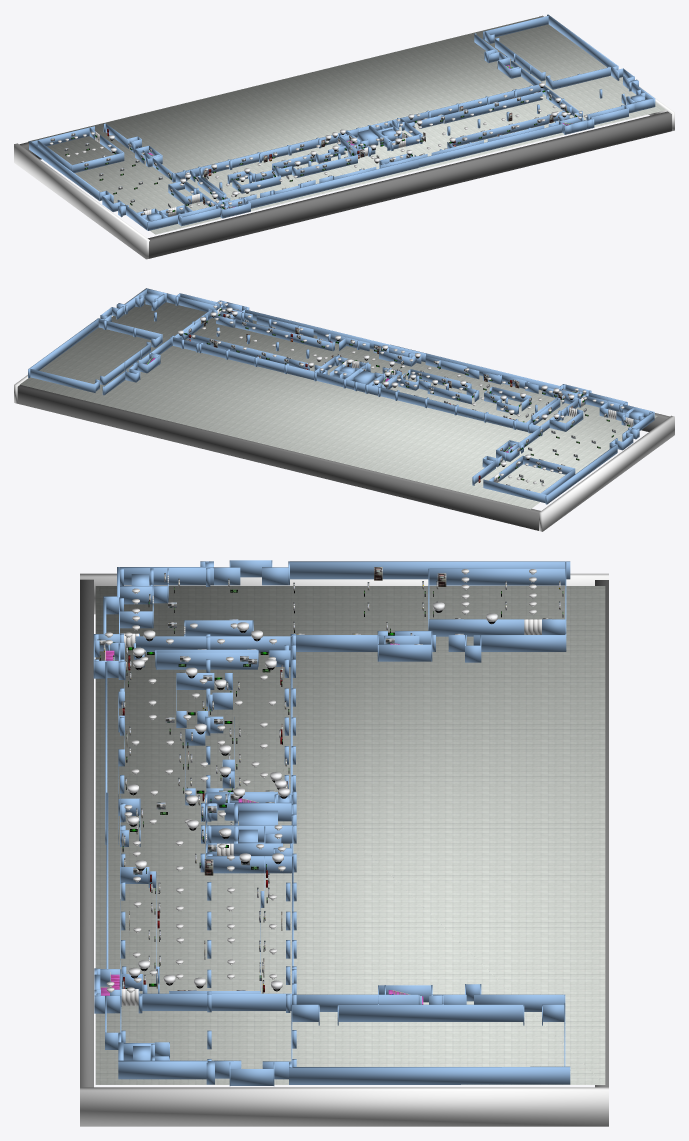
File: L40_2f_mini.gltf
3 views of the same model, one above another, from view 1: azimuth 30°, elevation 25°; view 2: azimuth 150°, elevation 25°; view 3: azimuth 270°, elevation 25° (orthographic). The views are drawn at different scales.
Parts seen in each view (by area): view 1: L40_dimian_42f, waiguan_42f_2, waiguan_42f, qiang_42_47, qiang_42_244, qiang_42_131, qiang_42_270, qiang_42_256, qiang_42_257, qiang_42_72, qiang_42_281, qiang_42_282 (+6 smaller); view 2: L40_dimian_42f, waiguan_42f_3, waiguan_42f, qiang_42_131, qiang_42_270, qiang_42_257, qiang_42_244, qiang_42_72, qiang_42_256, qiang_42_281, qiang_42_47, qiang_42_282 (+8 smaller); view 3: L40_dimian_42f, waiguan_42f_1, waiguan_42f_2, qiang_42_281, qiang_42_72, qiang_42_184, qiang_42_275, waiguan_42f, qiang_42_135, waiguan_42f_3, qiang_42_125, qiang_42_308 (+11 smaller).
Part boxes in pixels (x1,y1,x2,y2): L40_dimian_42f: (28, 17, 665, 234); waiguan_42f_2: (148, 111, 671, 258); waiguan_42f: (14, 143, 149, 259); qiang_42_47: (246, 159, 418, 208); qiang_42_244: (381, 124, 562, 168); qiang_42_131: (173, 135, 336, 182); qiang_42_270: (400, 84, 541, 126); qiang_42_256: (444, 91, 542, 123); qiang_42_257: (452, 115, 548, 146); qiang_42_72: (29, 141, 99, 200); qiang_42_281: (547, 14, 618, 69); qiang_42_282: (483, 16, 548, 39); L40_dimian_42f: (20, 299, 657, 509); waiguan_42f_3: (17, 385, 540, 530); waiguan_42f: (539, 415, 674, 531); qiang_42_131: (378, 387, 542, 434); qiang_42_270: (172, 337, 314, 379); qiang_42_257: (235, 319, 332, 350); qiang_42_244: (245, 309, 425, 362); qiang_42_72: (545, 444, 617, 504); qiang_42_256: (188, 333, 285, 364); qiang_42_281: (28, 318, 98, 377); qiang_42_47: (390, 344, 561, 389); qiang_42_282: (30, 369, 95, 392); L40_dimian_42f: (95, 586, 605, 1084); waiguan_42f_1: (80, 1087, 608, 1126); waiguan_42f_2: (80, 579, 93, 1087); qiang_42_281: (289, 1066, 570, 1084); qiang_42_72: (290, 561, 570, 579); qiang_42_184: (338, 1004, 523, 1021); qiang_42_275: (138, 993, 291, 1010); waiguan_42f: (80, 573, 608, 614); qiang_42_135: (429, 568, 565, 585); waiguan_42f_3: (595, 580, 608, 1087); qiang_42_125: (136, 636, 291, 653); qiang_42_308: (118, 1060, 207, 1079).
Bounding box in the file's own units: 245 × 13.73 × 106.
28 materials, 15 textured.
